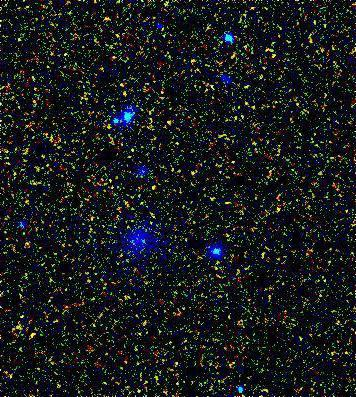star: (181, 161, 211, 191)
